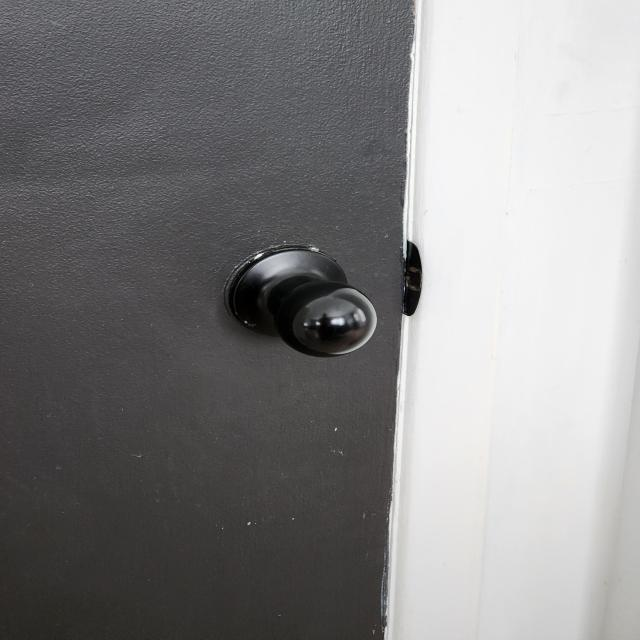door-knob: (225, 247, 378, 360)
